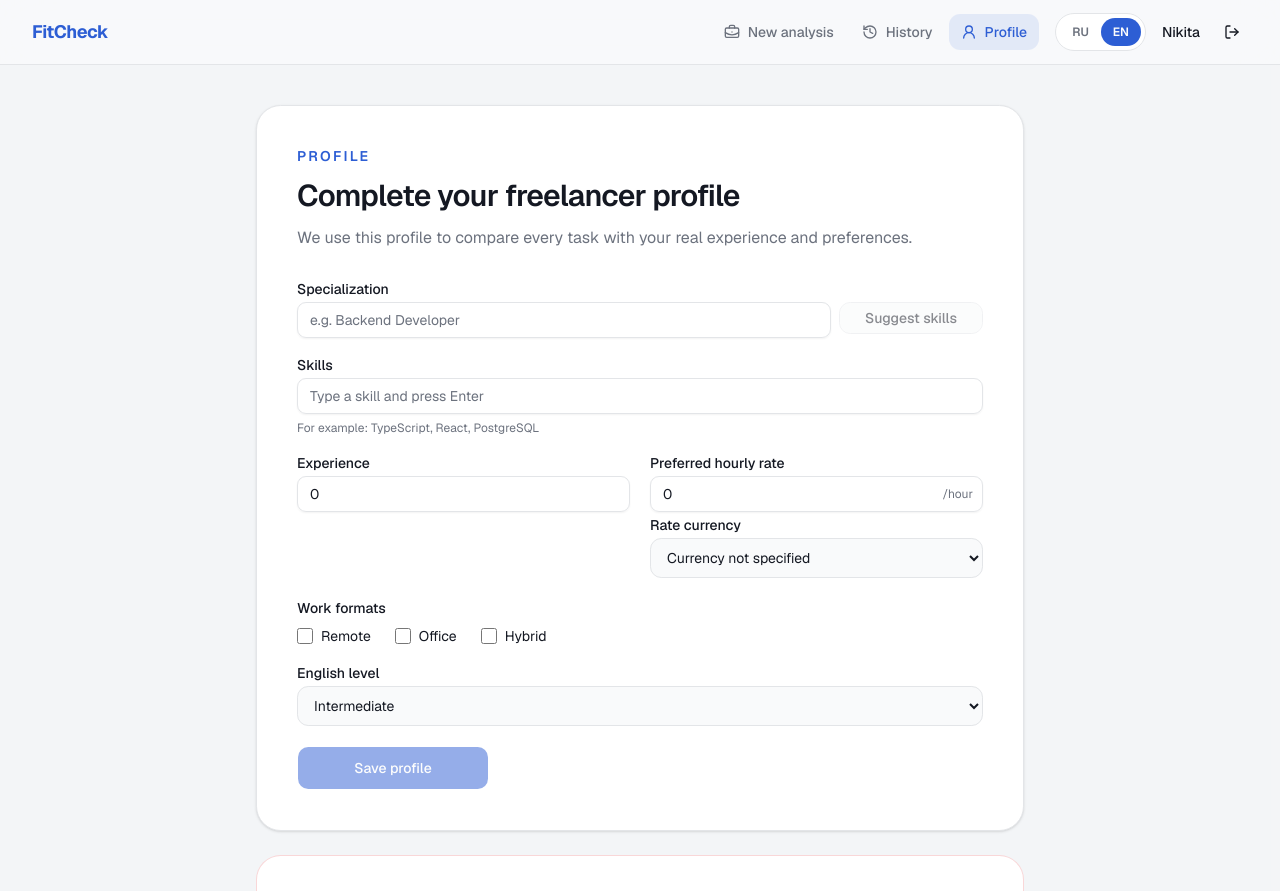
Scenario: FitCheck profile skill suggestions › shows the localized profile message for suggestions_invalid_output
Type "Backend Developer" into the field labelled "Specialization" at {"x": 564, "y": 320}, box x1=297 y1=302 x2=831 y2=338
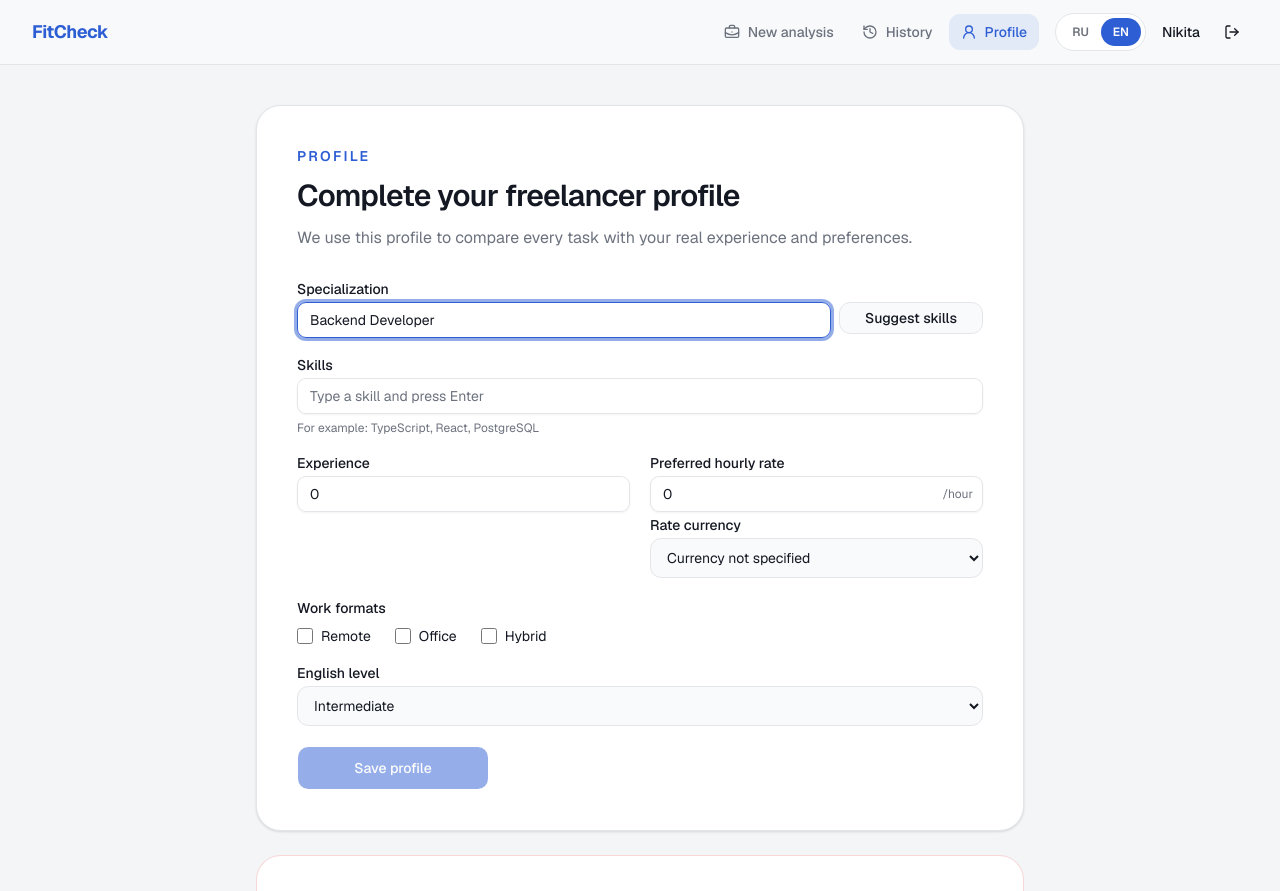
Click the button "Suggest skills" at {"x": 911, "y": 318}, box x1=839 y1=302 x2=983 y2=334
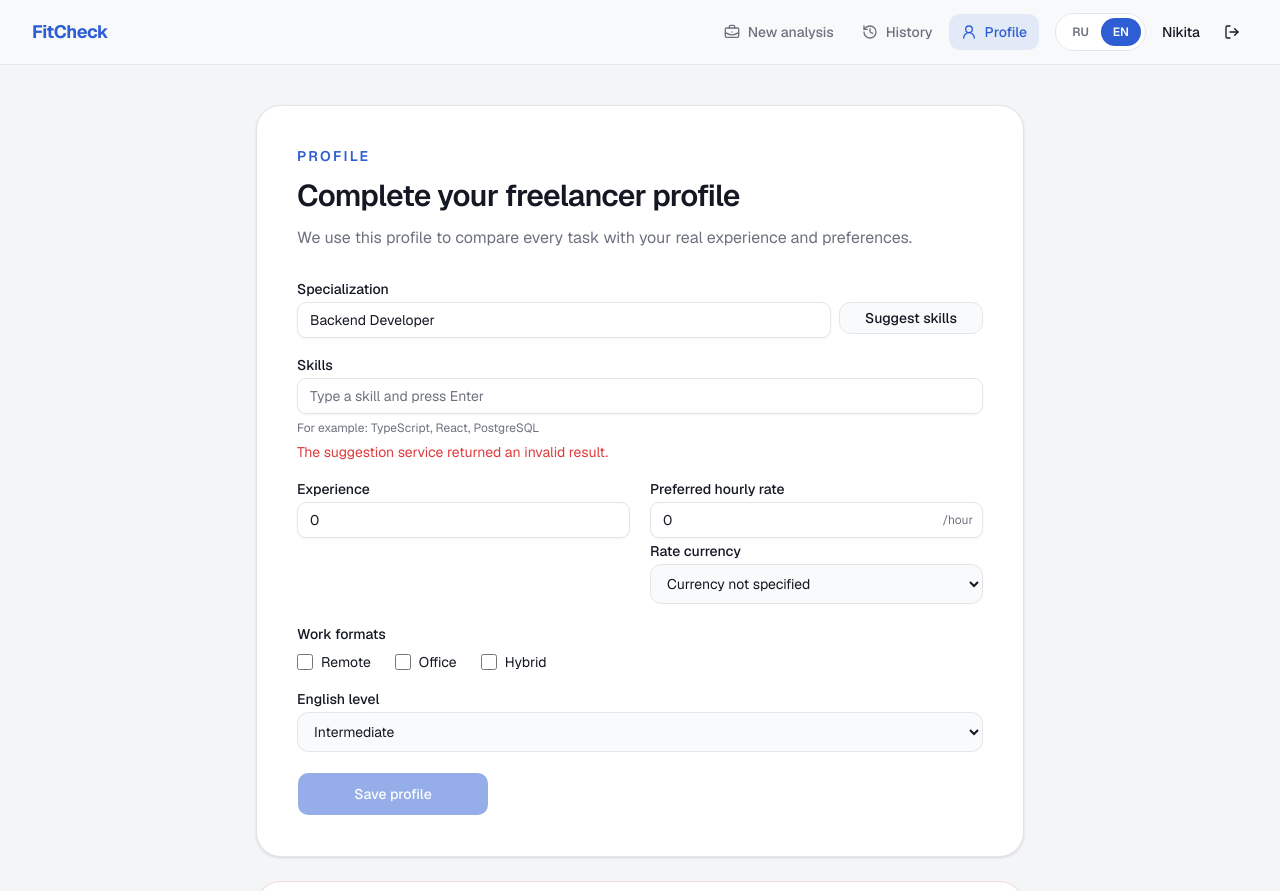
Now the message reads "The suggestion service returned an invalid result.", box x1=297 y1=443 x2=608 y2=461
